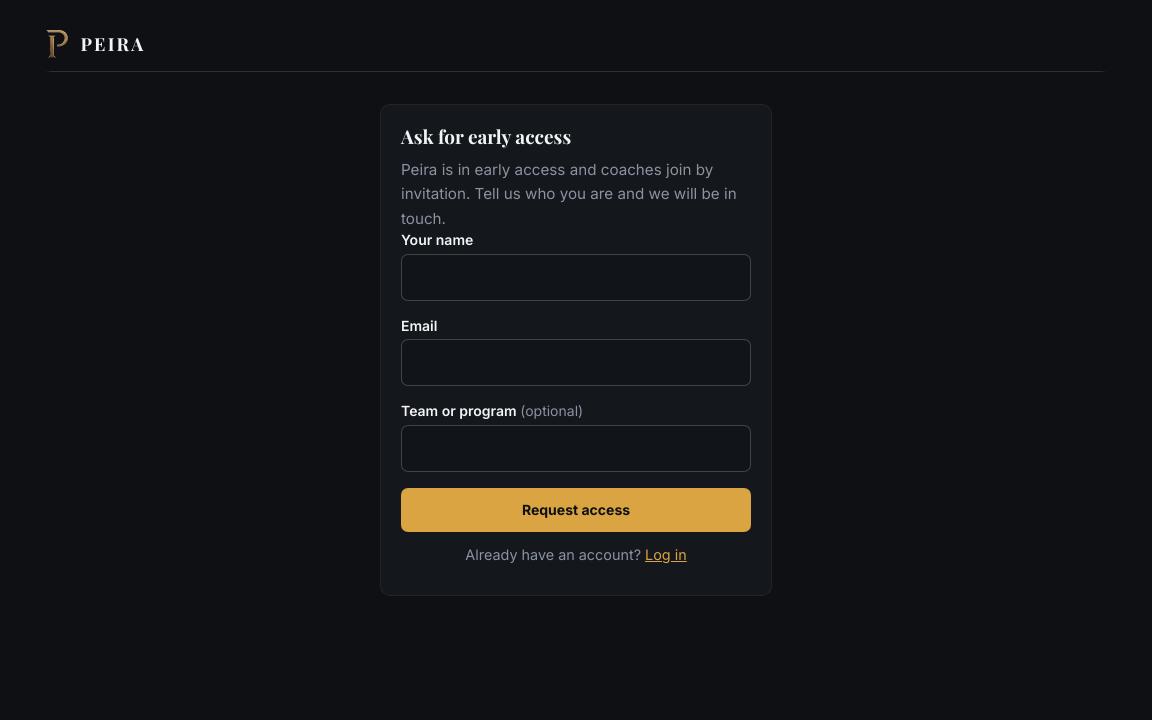
Test: RequestAccessPage › shows an error and keeps the form when the request fails
Type "Coach Smith" into the field labelled "Your name" at (576, 277), box 401,254 -> 751,301
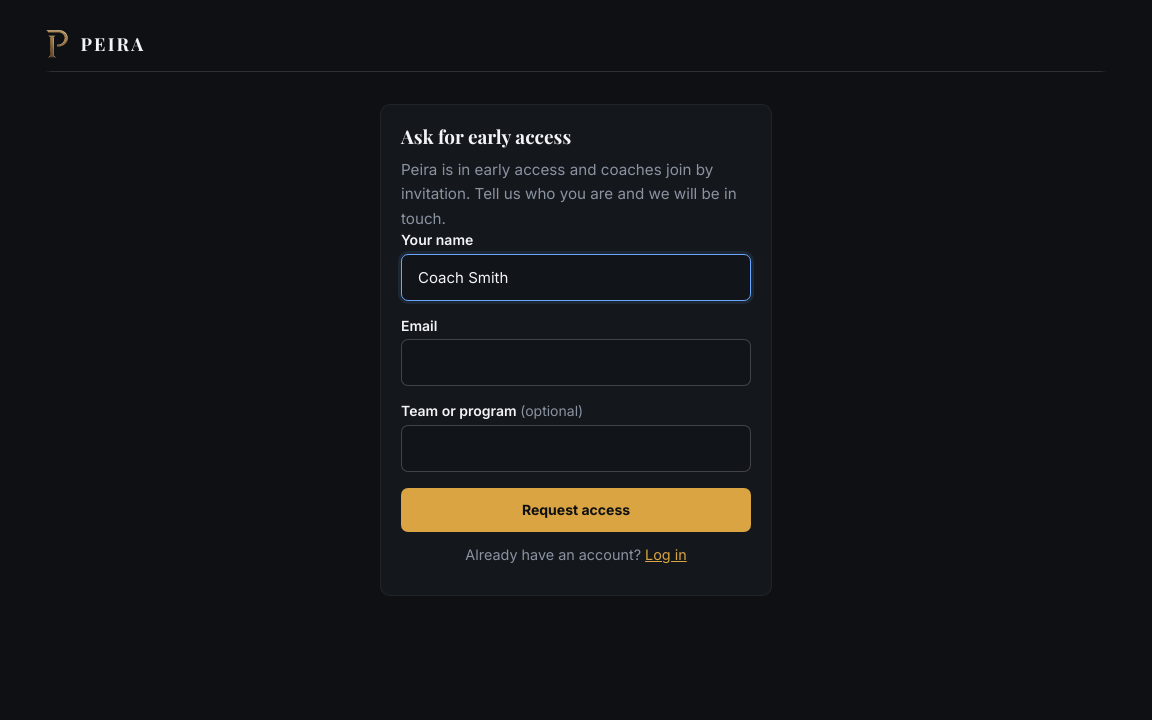
Type "smith@example.com" into the field labelled "Email" at (576, 363), box 401,339 -> 751,386
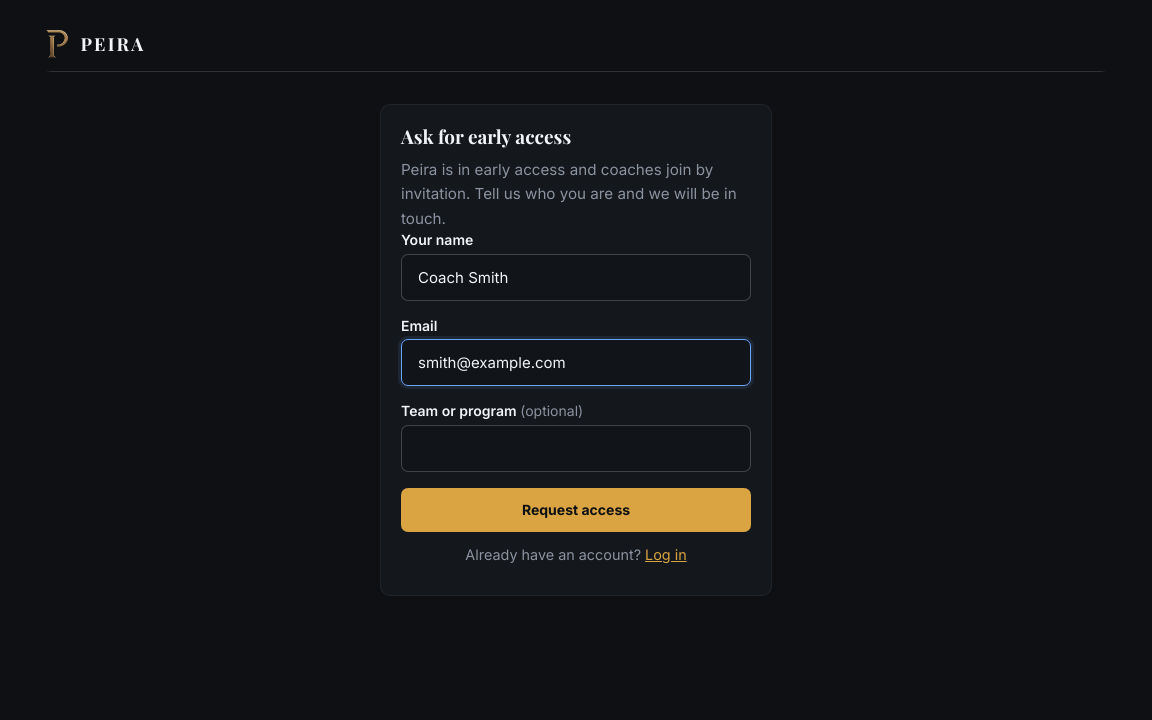
Click the button "Request access" at (576, 510), box 401,488 -> 751,532
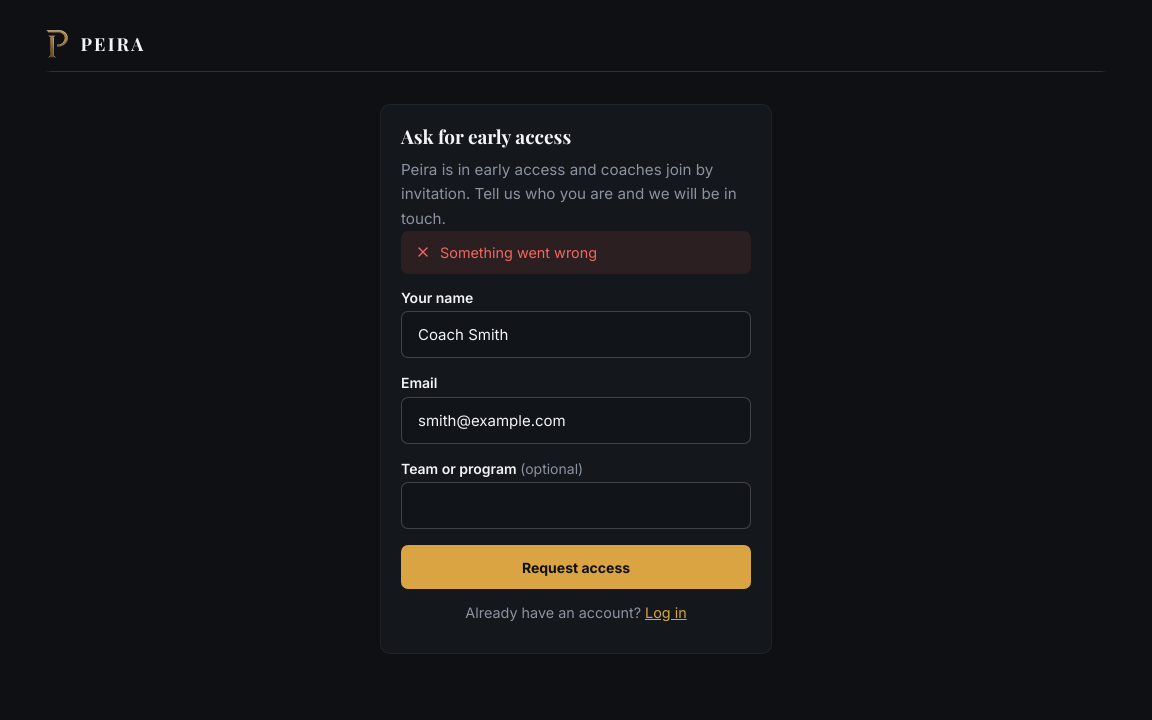
Expected: the button "Request access" is shown, 401,545 -> 751,589
Expected: the text "Something went wrong" is shown, 440,242 -> 597,263
